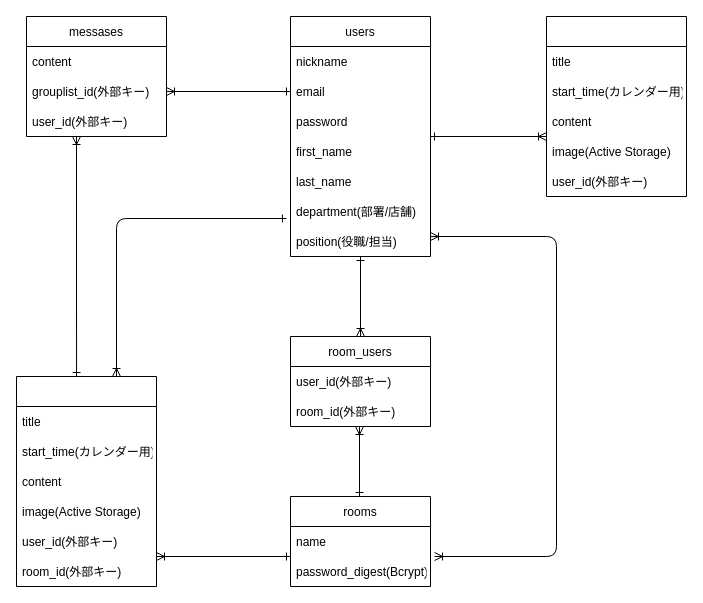
Some shapes in this 703 by 603 pixel diagram are drawn without their labels. Here are the shapes that lost their labels. From the top down, the box of each, then its label:
(546, 16, 686, 196): my_lists
(16, 376, 156, 586): group_lists
